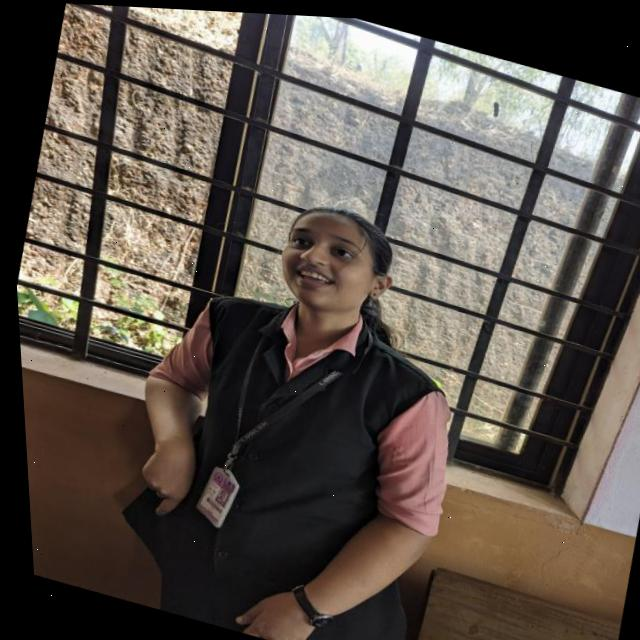id_card: (156, 294, 371, 568)
